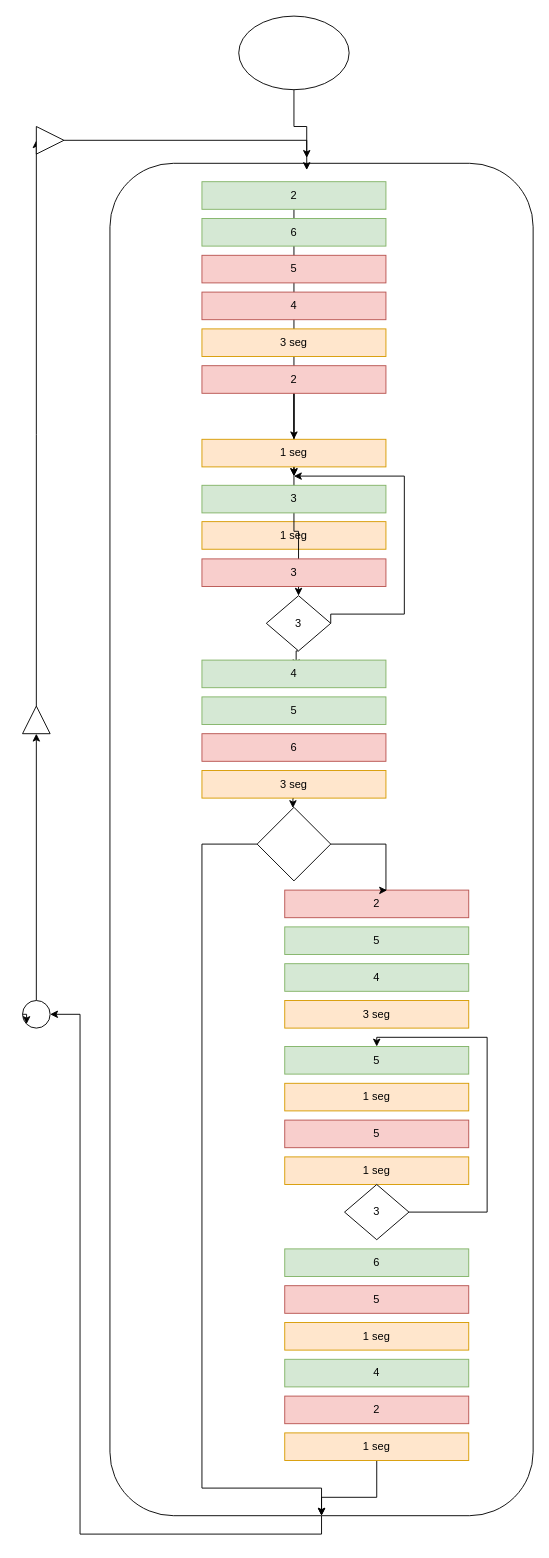
Some shapes in this 549 by 1558 pixel diagram are drawn without their labels. The shapes that lost their labels are listed below. From the top down, each one's centre as x and y in pixels, then its label:
(x=293, y=52): inicio
(x=293, y=843): pin7=alta
